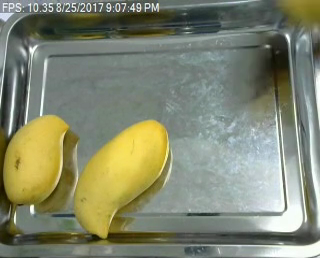Mango: (72, 118, 171, 240), (0, 114, 70, 207)
